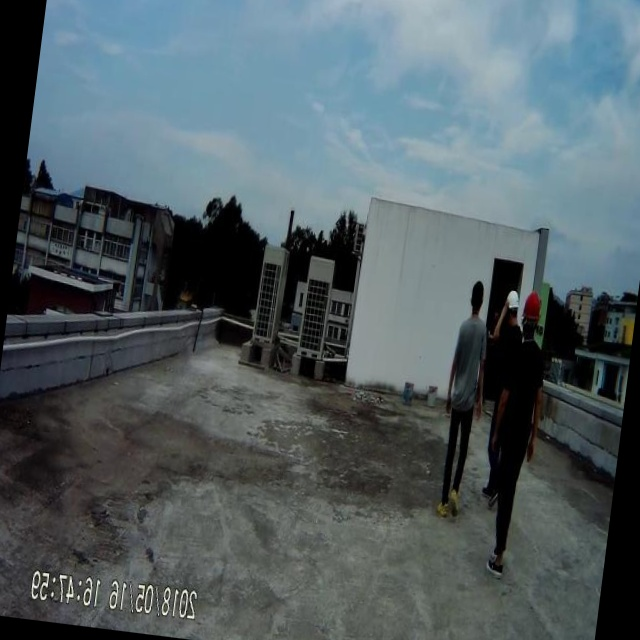Sin_Chaleco: (497, 336, 546, 464), (448, 314, 489, 413)
